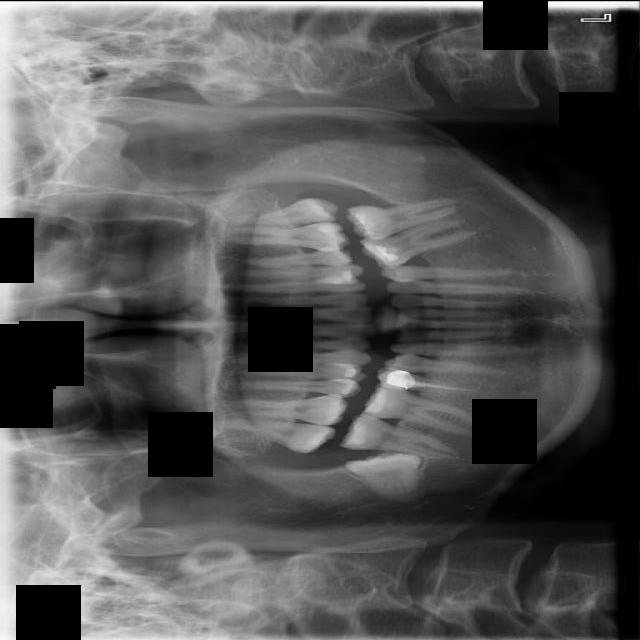52: (355, 218, 417, 281), (357, 374, 419, 435), (342, 191, 400, 250), (338, 407, 396, 463), (374, 364, 418, 392)
73: (410, 373, 481, 401), (546, 64, 562, 72)
BioHorizons Implant: (230, 194, 341, 229)
Blue Sky Bio Implant: (345, 197, 463, 241)
Caries: (212, 414, 337, 455)
Implant: (339, 411, 458, 462)
Keystone Dental Implant: (343, 447, 424, 503)
